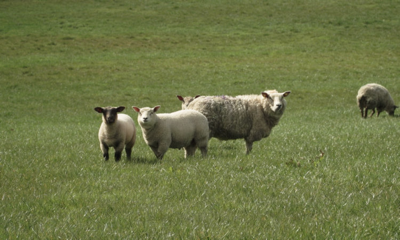koyun: (193, 89, 289, 156), (132, 104, 209, 159), (93, 106, 135, 162), (356, 81, 399, 120), (176, 93, 200, 108)
